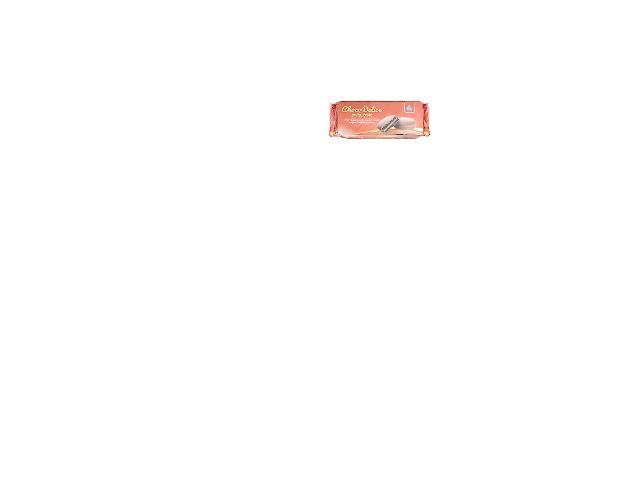chocolate: (328, 100, 431, 148)
